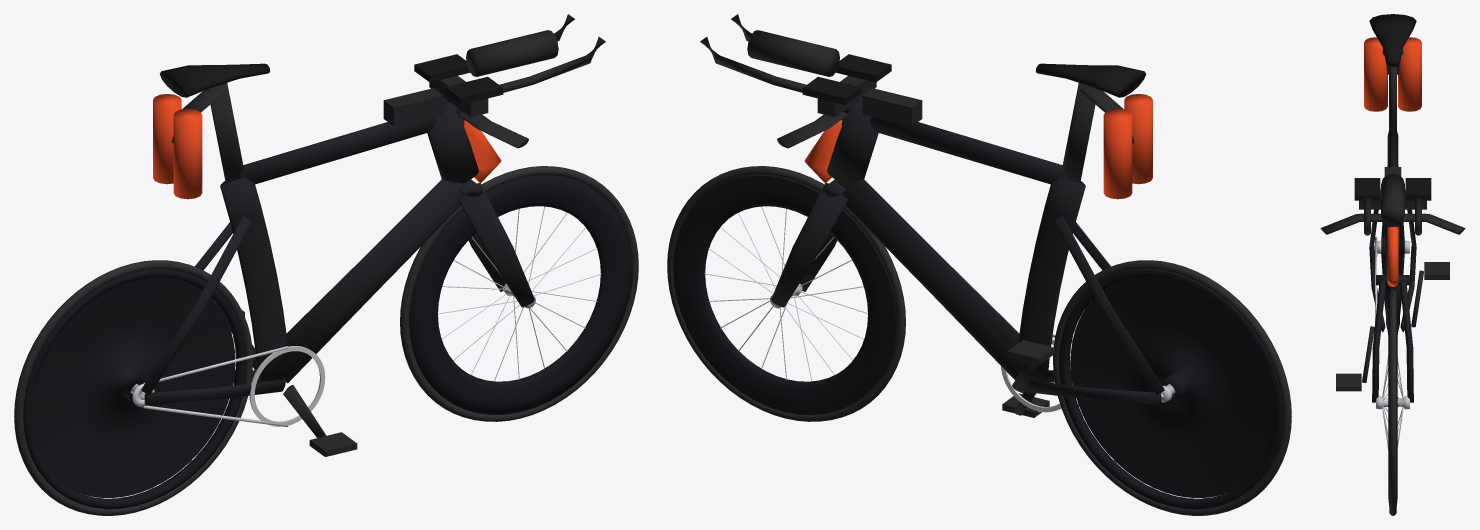
Rendered from bike.glb.
3 renders of one model, left to right at view 1: azimuth 30°, elevation 25°; view 2: azimuth 150°, elevation 25°; view 3: azimuth 270°, elevation 25°, orthographic. The views are drawn at different scales.
Visible parts, largest first — view 1: wheel_rear_disc, wheel_front_rim, down_tube, wheel_rear_rim, seat_tube, wheel_rear_tyre, wheel_front_tyre, top_tube, fork_l, aero_bottle, rear_bottle_-1, head_tube (+16 smaller); view 2: wheel_rear_disc, wheel_front_rim, down_tube, wheel_rear_rim, wheel_rear_tyre, seat_tube, wheel_front_tyre, top_tube, fork_r, aero_bottle, rear_bottle_1, head_tube (+14 smaller); view 3: wheel_front_tyre, rear_bottle_-1, rear_bottle_1, saddle, aero_bottle, base_bar, fork_l, fork_r, wheel_front_rim, nose, armpad_l, armpad_r (+17 smaller).
Boxes of the visible parts, x1,y1,x2,y2 form: wheel_rear_disc: (31,277,235,497); wheel_front_rim: (409,175,632,415); down_tube: (272,179,468,383); wheel_rear_rim: (23,269,246,509); seat_tube: (220,176,286,382); wheel_rear_tyre: (14,260,252,515); wheel_front_tyre: (400,166,638,421); top_tube: (240,117,435,184); fork_l: (458,183,534,307); aero_bottle: (466,30,558,76); rear_bottle_-1: (173,109,202,199); head_tube: (427,101,478,183); wheel_rear_disc: (1070,277,1274,497); wheel_front_rim: (673,175,896,415); down_tube: (837,179,1026,379); wheel_rear_rim: (1059,269,1282,509); wheel_rear_tyre: (1053,260,1291,515); seat_tube: (1019,176,1085,382); wheel_front_tyre: (667,166,905,421); top_tube: (870,117,1065,184); fork_r: (771,183,847,307); aero_bottle: (747,30,839,76); rear_bottle_1: (1103,109,1132,199); head_tube: (827,101,878,183); wheel_front_tyre: (1389,289,1396,515); rear_bottle_-1: (1364,37,1387,111); rear_bottle_1: (1398,37,1421,111); saddle: (1369,14,1416,66); aero_bottle: (1381,173,1404,226); base_bar: (1320,213,1465,234); fork_l: (1372,280,1385,402); fork_r: (1400,280,1413,402); wheel_front_rim: (1388,299,1397,505); nose: (1387,227,1398,286); armpad_l: (1354,178,1380,200); armpad_r: (1405,178,1431,200).
Bounding box in the file's own units: 1.75 × 1.15 × 0.4281.
